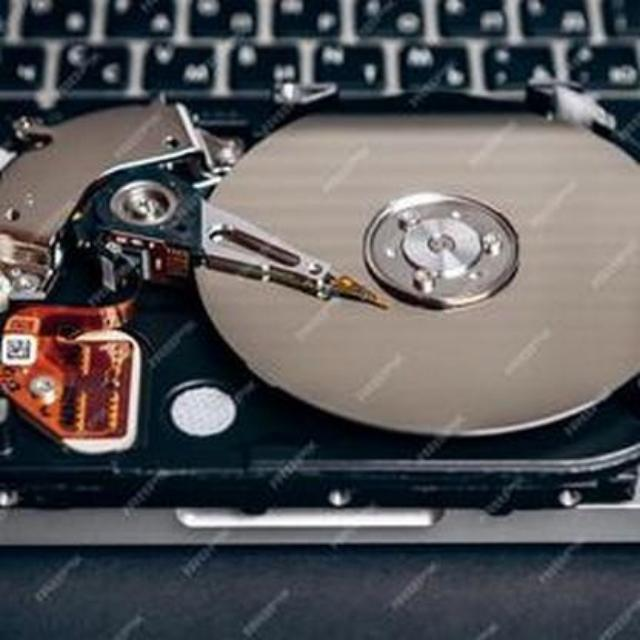DISK: (0, 94, 640, 506)
